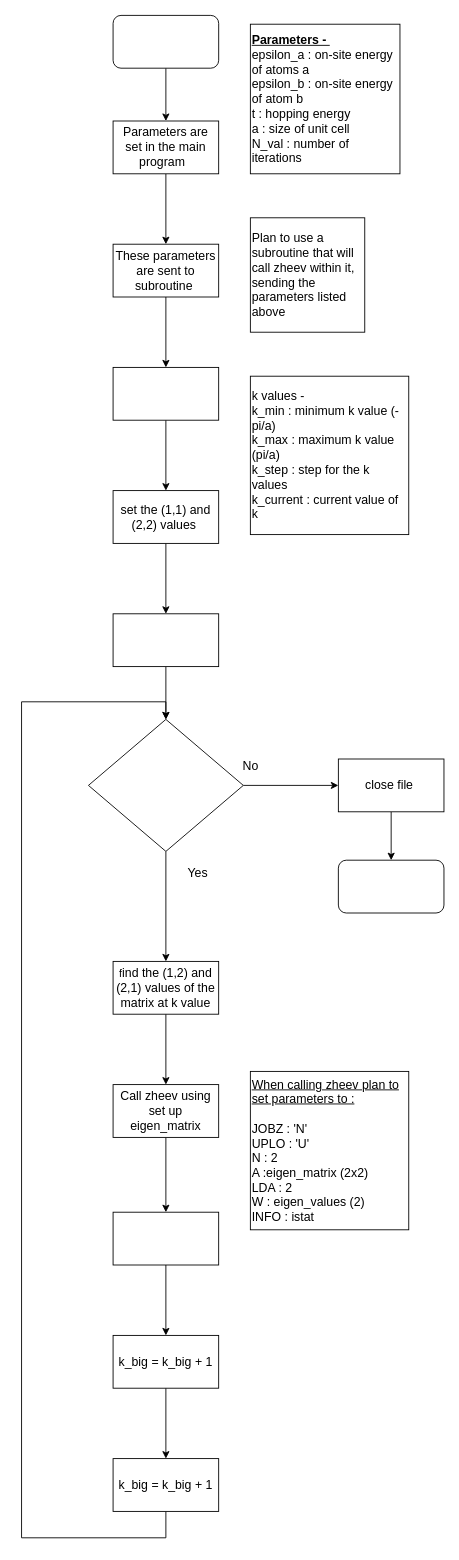
The diagram is 459 pixels wide and 1560 high, and some of its shapes have lost their labels. The box of each missing label's shape, as (x1, y1, x2, y2) in pixels:
End: (337, 859, 444, 913)
Is k_big < N_val?: (88, 719, 243, 851)
k_big = 0: (112, 613, 219, 667)
k_current = k_current + k_step: (112, 1211, 219, 1265)
set the k values and open file: (112, 367, 219, 420)
Start: (112, 15, 219, 68)
